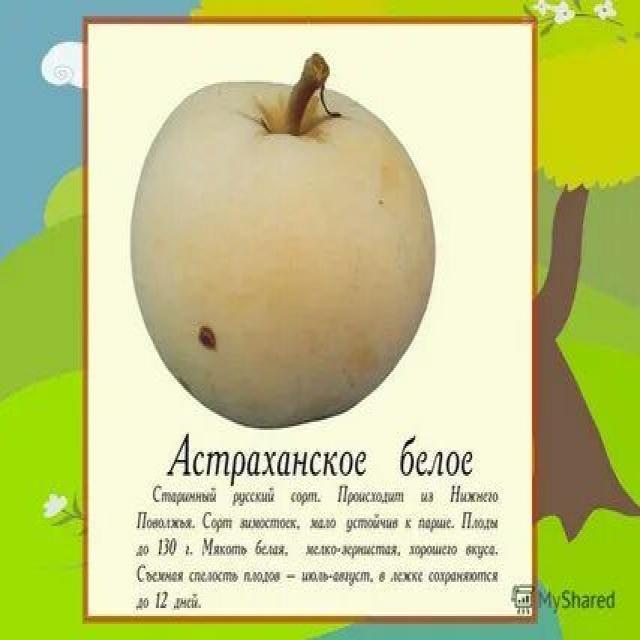Rotten: (140, 105, 428, 448)
